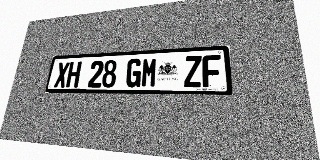2: (88, 60, 104, 87)
8: (101, 60, 118, 87)
F: (202, 55, 222, 87)
G: (125, 58, 142, 87)
H: (65, 61, 82, 87)
M: (141, 58, 158, 87)
X: (54, 62, 70, 87)
Z: (184, 55, 202, 87)
